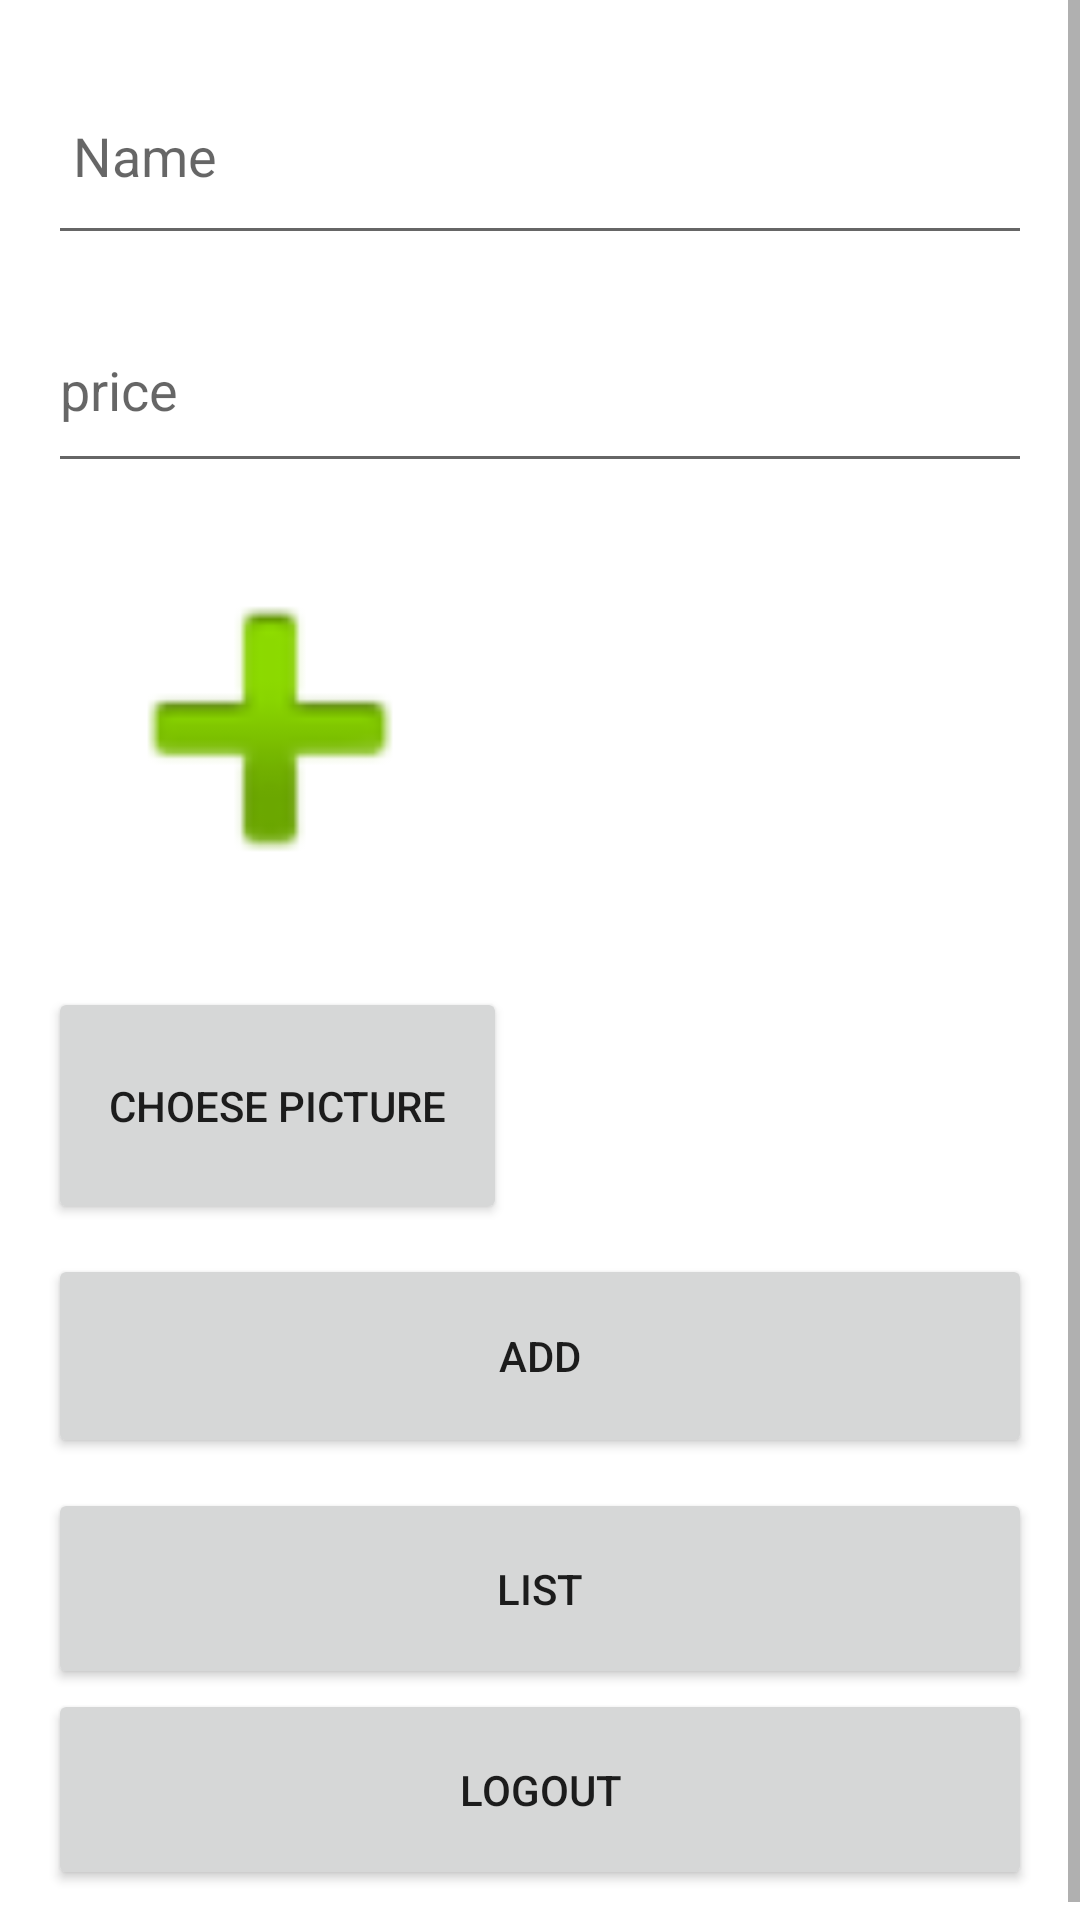

Icon bounding boxes for this 1080px×1920px phone screenshot, format [x1, y1, x2, y2]:
add: [148, 608, 392, 850]
